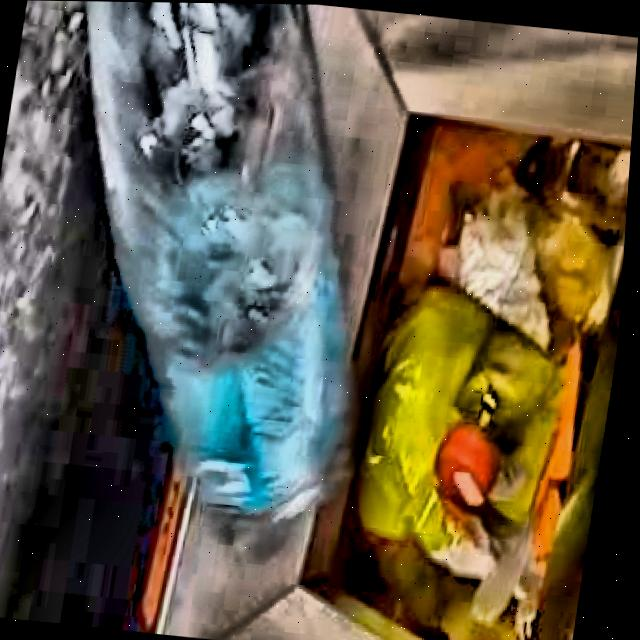plastic: (91, 1, 357, 514)
